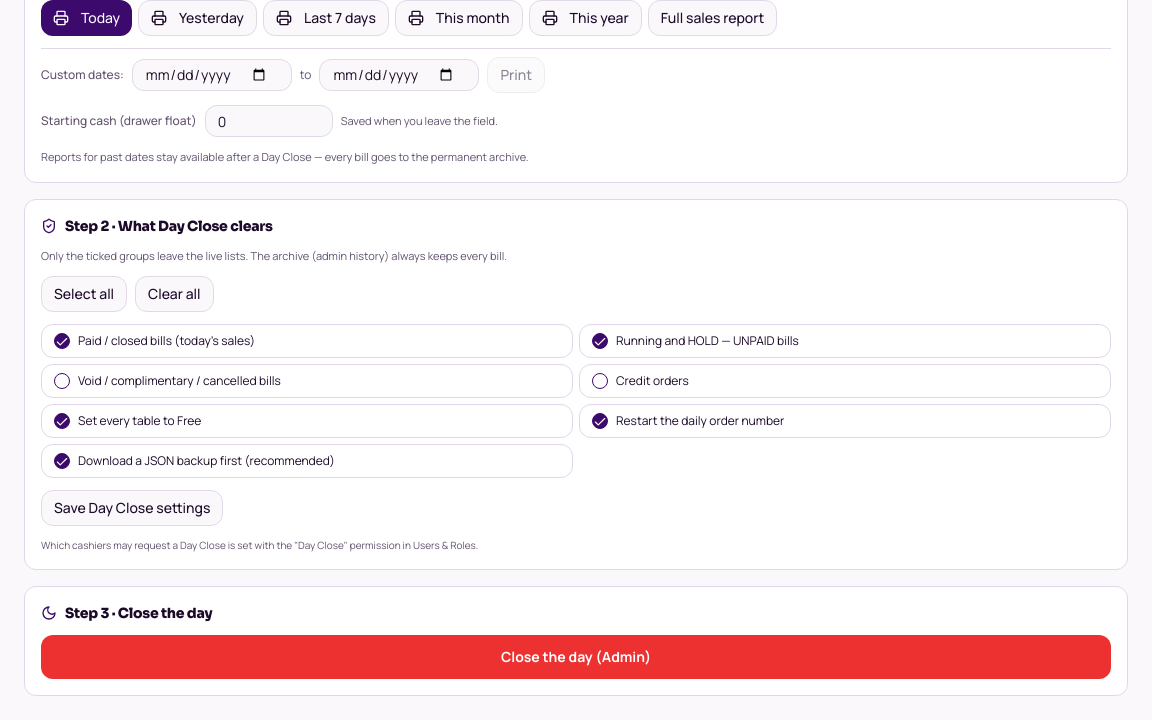
it: the Day Close screen › warns about the bill on HOLD — UNPAID before closing
This screenshot has width=1152, height=720.
(page scrolled)
What coordinates should you click on to do the following:
click the button "Close the day (Admin)"
I would click on:
 (576, 657)
Its box is [41,635,1111,679].
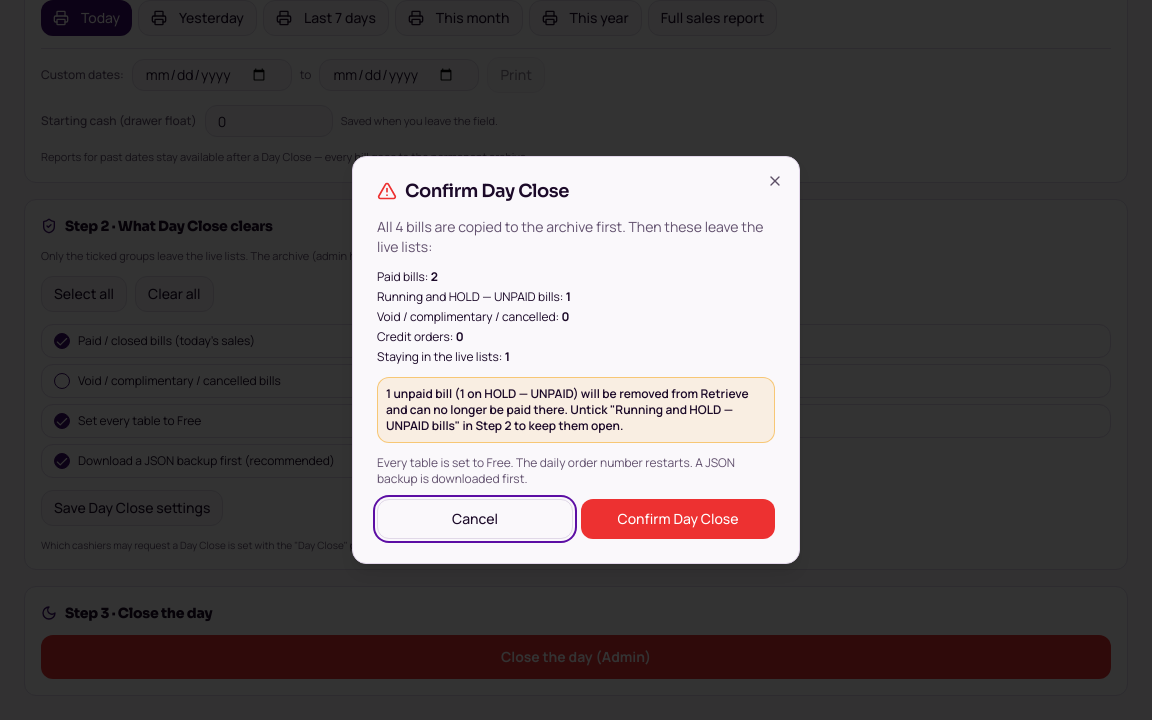
Expected: the text "will be removed from Retrieve" is shown, [386,385,749,434]
